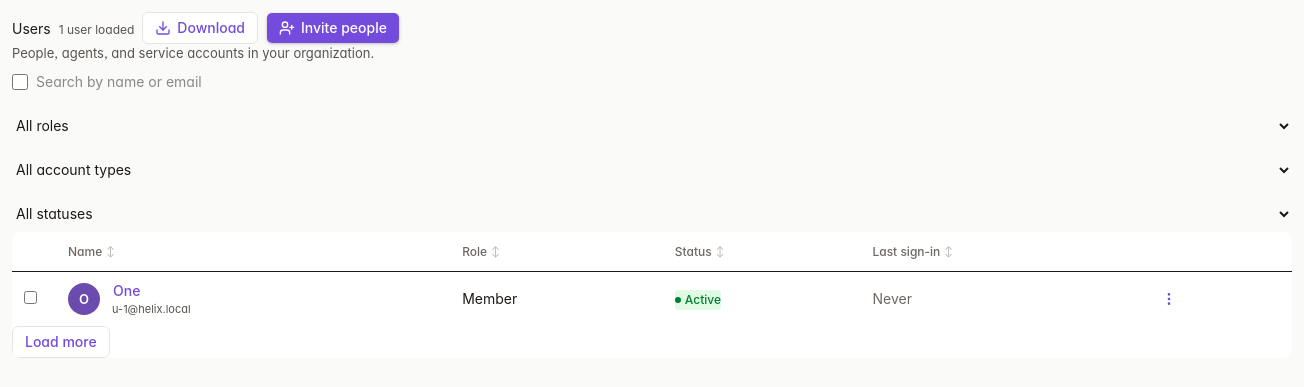
Scenario: AdminUsers › loads the next page on demand
This screenshot has width=1304, height=387.
What coordinates should you click on to do the following:
click the button "Load more"
I would click on:
 (61, 342)
Its box is [12, 326, 110, 358].
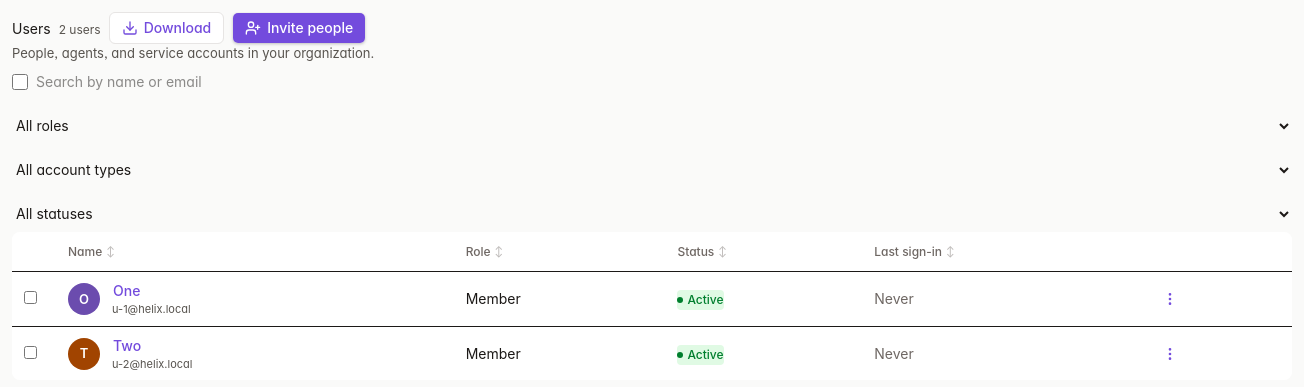
Expected: the text "2 users" is shown, [59, 20, 101, 38]
